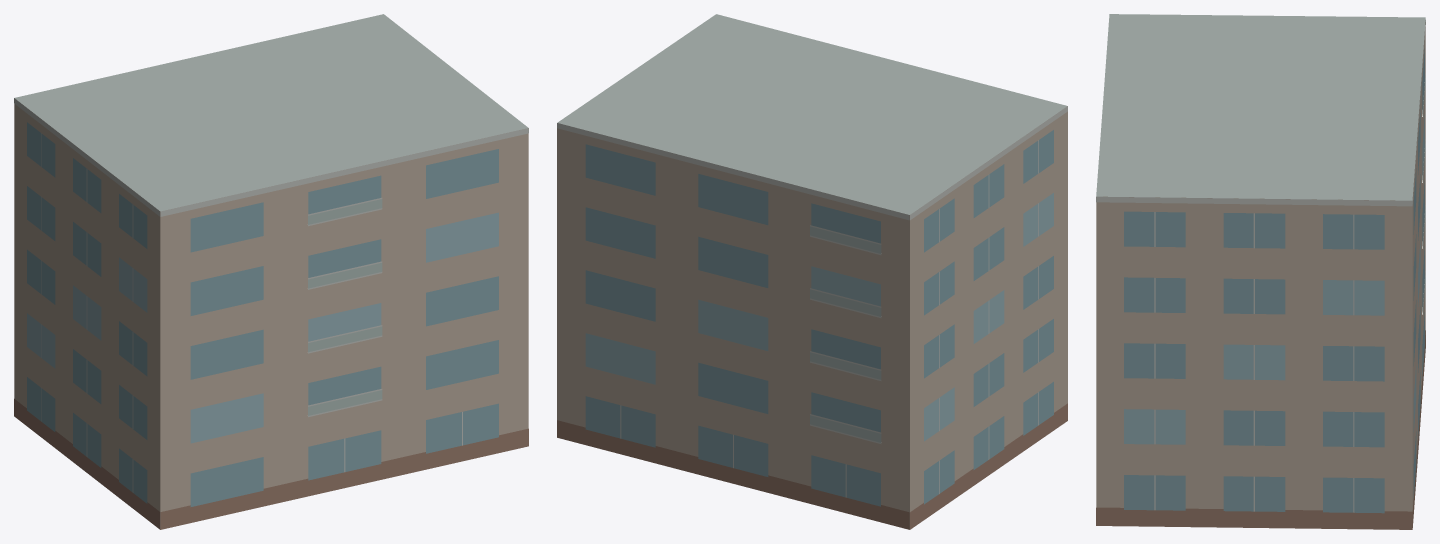
The model's file is survey-upis-32664686.glb.
3 renders of one model, left to right at view 1: azimuth 30°, elevation 25°; view 2: azimuth 150°, elevation 25°; view 3: azimuth 270°, elevation 25°, orthographic. The views are drawn at different scales.
Visible parts, largest first — view 1: survey-upis-32664686.tmp; view 2: survey-upis-32664686.tmp; view 3: survey-upis-32664686.tmp.
Boxes of the visible parts, x1=… form: survey-upis-32664686.tmp: x1=14, y1=14, x2=528, y2=529; survey-upis-32664686.tmp: x1=557, y1=14, x2=1067, y2=529; survey-upis-32664686.tmp: x1=1096, y1=14, x2=1425, y2=529.
Bounding box in the file's own units: 17.22 × 14.15 × 12.85.
